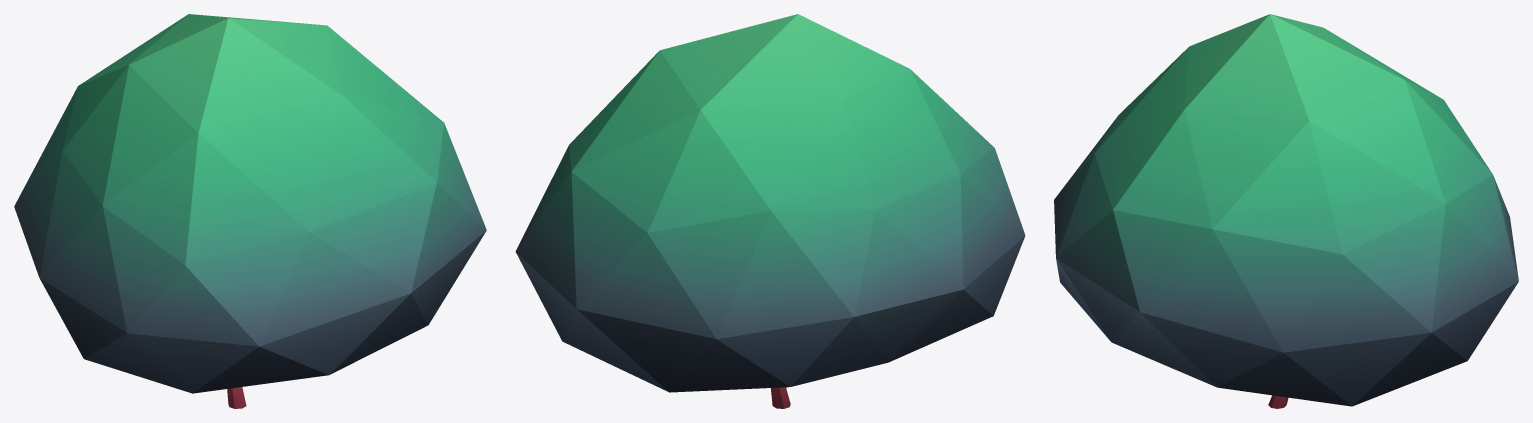
File: Bush_1.fbx
3 renders of one model, left to right at view 1: azimuth 30°, elevation 25°; view 2: azimuth 150°, elevation 25°; view 3: azimuth 270°, elevation 25°, orthographic. The views are drawn at different scales.
Visible parts, largest first — view 1: Bush; view 2: Bush; view 3: Bush.
Boxes of the visible parts, <box> form: Bush: <box>14,14,486,408</box>; Bush: <box>515,14,1025,408</box>; Bush: <box>1054,14,1518,408</box>.
Bounding box in the file's own units: 173 × 163 × 179.
